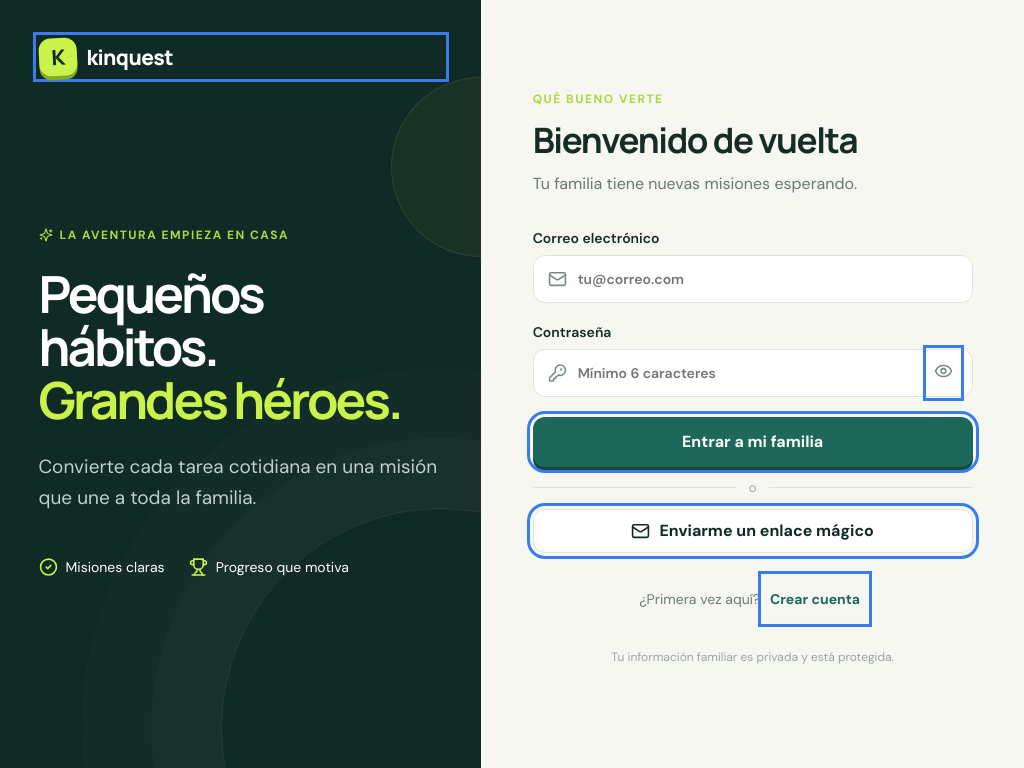
Test: LoginPage › valida datos sin enviar información
Click the button "Entrar a mi familia": (753, 442) [533,417,973,467]
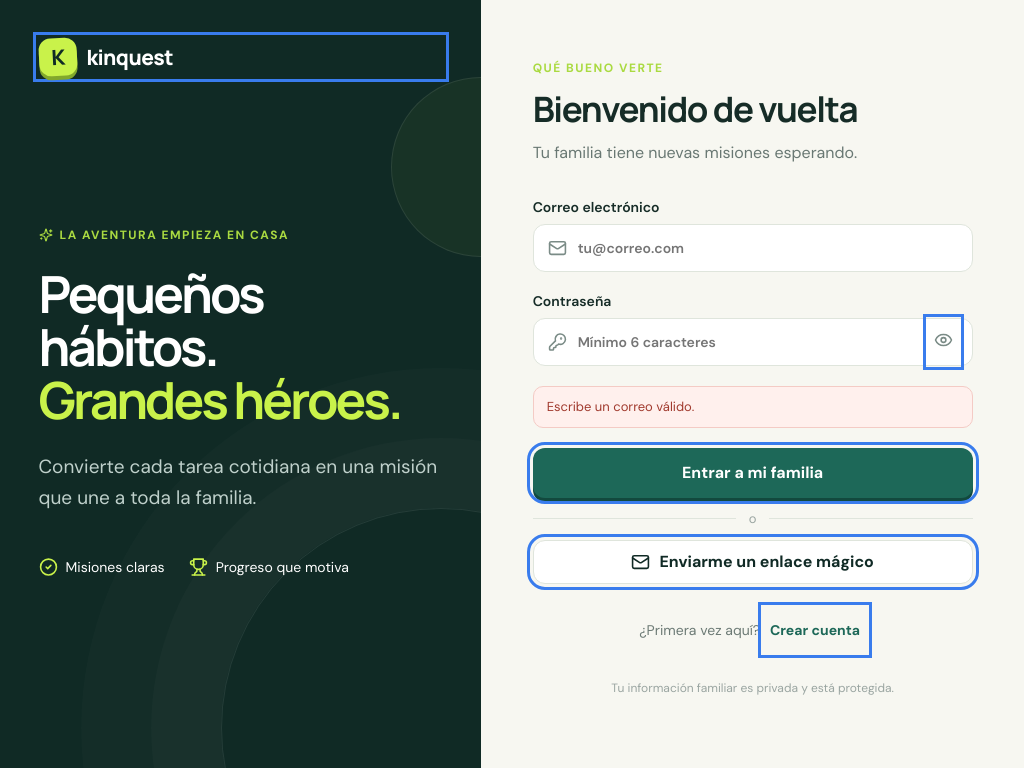
Now the message shows "correo válido", box [547,398,694,415]
